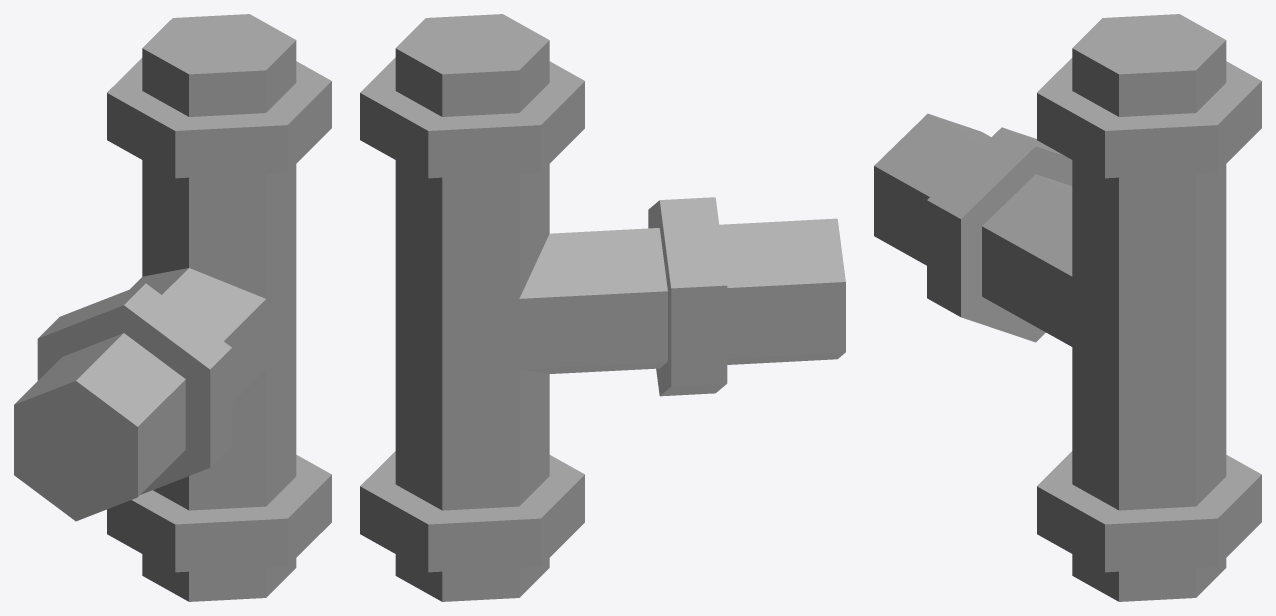
Rendered from Building Pipe 4.fbx.
The picture shows the model from 3 angles, left to right: view 1: azimuth 30°, elevation 25°; view 2: azimuth 150°, elevation 25°; view 3: azimuth 270°, elevation 25°; orthographic projection.
Parts seen in each view (by area): view 1: Building Pipe 4; view 2: Building Pipe 4; view 3: Building Pipe 4.
Boxes of the visible parts, x1,y1,x2,y2 form: Building Pipe 4: (14, 14, 331, 601); Building Pipe 4: (360, 14, 845, 601); Building Pipe 4: (874, 14, 1261, 601).
Size of the model in its own units: 79.6 by 70.4 by 106.
